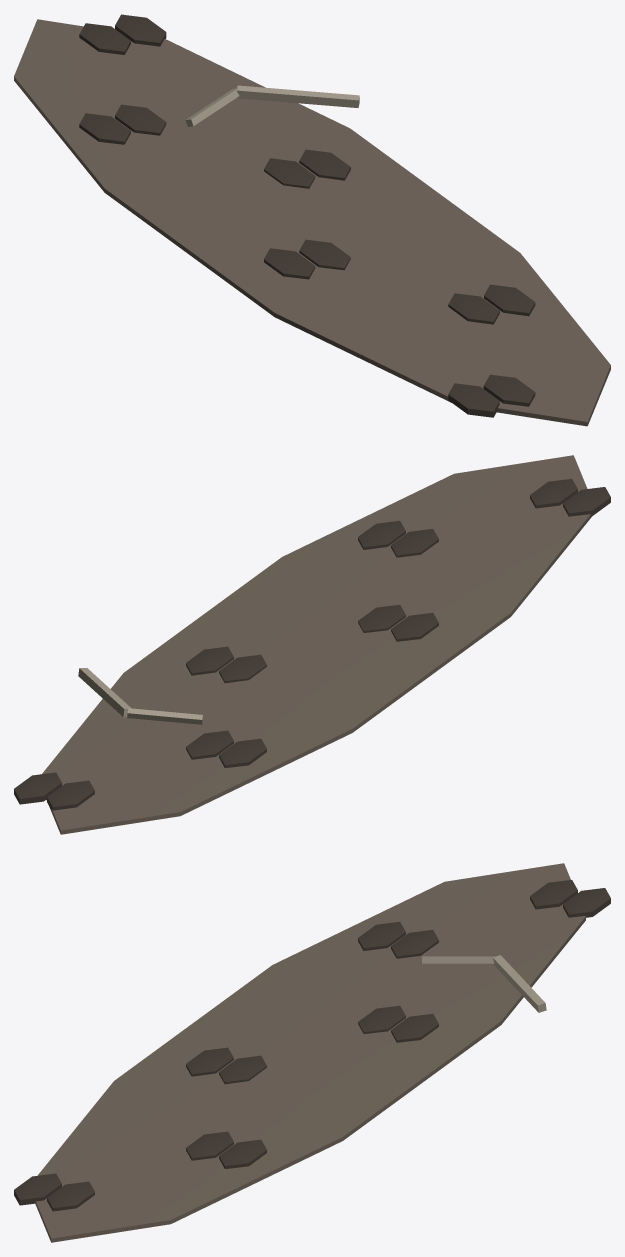
File: tracks_hoof.gltf
3 renders of one model, top to bottom at view 1: azimuth 30°, elevation 25°; view 2: azimuth 150°, elevation 25°; view 3: azimuth 330°, elevation 25°, orthographic. The views are drawn at different scales.
Parts seen in each view (by area): view 1: Body; view 2: Body; view 3: Body.
Part boxes in pixels (box(x1,y1,x2,y2)): Body: box(14, 14, 610, 426); Body: box(14, 455, 610, 834); Body: box(14, 863, 610, 1242).
Size of the model in its own units: 0.7734 by 0.0608 by 2.68.
